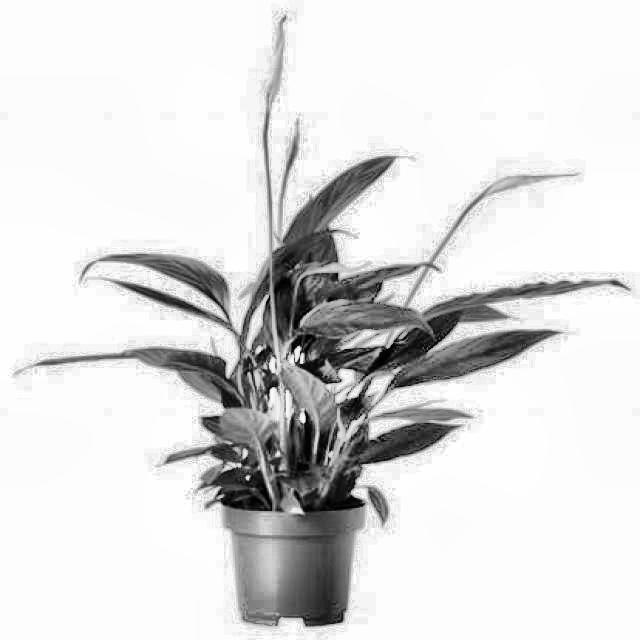plants: (111, 128, 472, 600)
